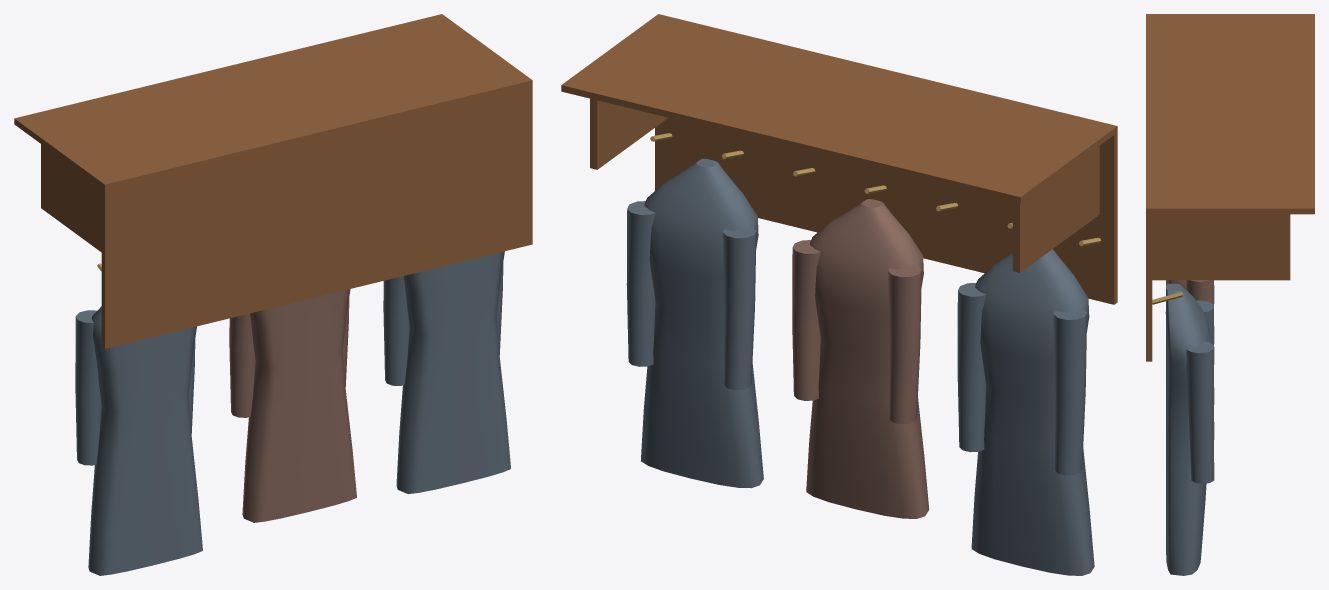
File: parametric-wall-coat-rack-2nd-1500x0550x1950.glb
3 renders of one model, left to right at view 1: azimuth 30°, elevation 25°; view 2: azimuth 150°, elevation 25°; view 3: azimuth 270°, elevation 25°, orthographic. The views are drawn at different scales.
Parts seen in each view (by area): view 1: backboard, hat-shelf, coat:0, coat:2, coat:1, bracket:-1, coat-sleeve:0:-1, coat-sleeve:2:-1, coat-sleeve:1:-1; view 2: hat-shelf, coat:2, coat:0, coat:1, backboard, bracket:-1, coat-sleeve:0:-1, coat-sleeve:2:-1, coat-sleeve:1:-1, coat-sleeve:0:1, coat-sleeve:2:1, coat-sleeve:1:1 (+1 smaller); view 3: hat-shelf, bracket:1, coat:2, coat-sleeve:2:1, backboard, coat-sleeve:1:1, coat-sleeve:2:-1.
Part boxes in pixels (bbox=[...]): backboard: bbox=[101, 86, 532, 348]; hat-shelf: bbox=[14, 14, 532, 190]; coat:0: bbox=[88, 306, 202, 575]; coat:2: bbox=[396, 251, 510, 493]; coat:1: bbox=[242, 289, 356, 522]; bracket:-1: bbox=[41, 144, 101, 252]; coat-sleeve:0:-1: bbox=[75, 310, 101, 465]; coat-sleeve:2:-1: bbox=[383, 276, 409, 385]; coat-sleeve:1:-1: bbox=[229, 313, 255, 417]; hat-shelf: bbox=[561, 14, 1117, 203]; coat:2: bbox=[641, 158, 763, 488]; coat:0: bbox=[971, 249, 1094, 575]; coat:1: bbox=[806, 199, 929, 518]; backboard: bbox=[655, 118, 1117, 304]; bracket:-1: bbox=[1012, 146, 1099, 272]; coat-sleeve:0:-1: bbox=[1053, 309, 1087, 475]; coat-sleeve:2:-1: bbox=[722, 227, 756, 389]; coat-sleeve:1:-1: bbox=[888, 266, 921, 424]; coat-sleeve:0:1: bbox=[957, 283, 986, 452]; coat-sleeve:2:1: bbox=[626, 201, 655, 366]; coat-sleeve:1:1: bbox=[792, 240, 820, 400]; hat-shelf: bbox=[1146, 14, 1314, 214]; bracket:1: bbox=[1152, 214, 1290, 280]; coat:2: bbox=[1166, 283, 1213, 575]; coat-sleeve:2:1: bbox=[1186, 341, 1214, 483]; backboard: bbox=[1146, 214, 1152, 361]; coat-sleeve:1:1: bbox=[1186, 280, 1214, 404]; coat-sleeve:2:-1: bbox=[1196, 300, 1214, 439].
Size of the model in its own units: 1.5 by 1.35 by 0.55.
